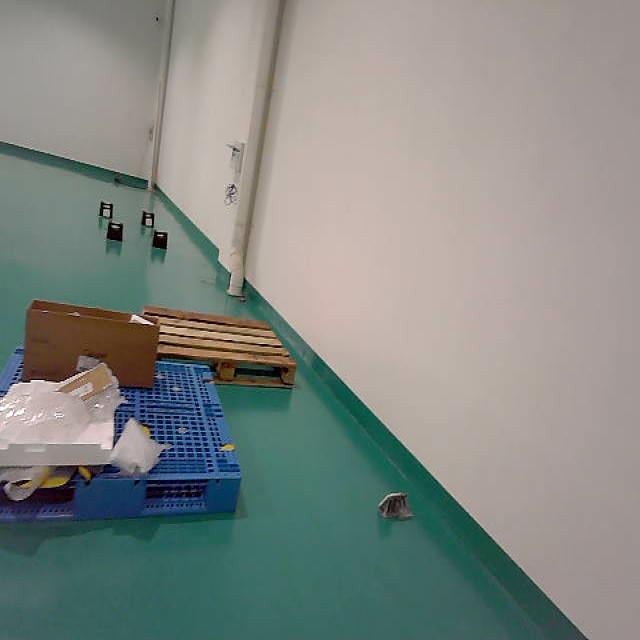euro: (140, 307, 295, 392)
